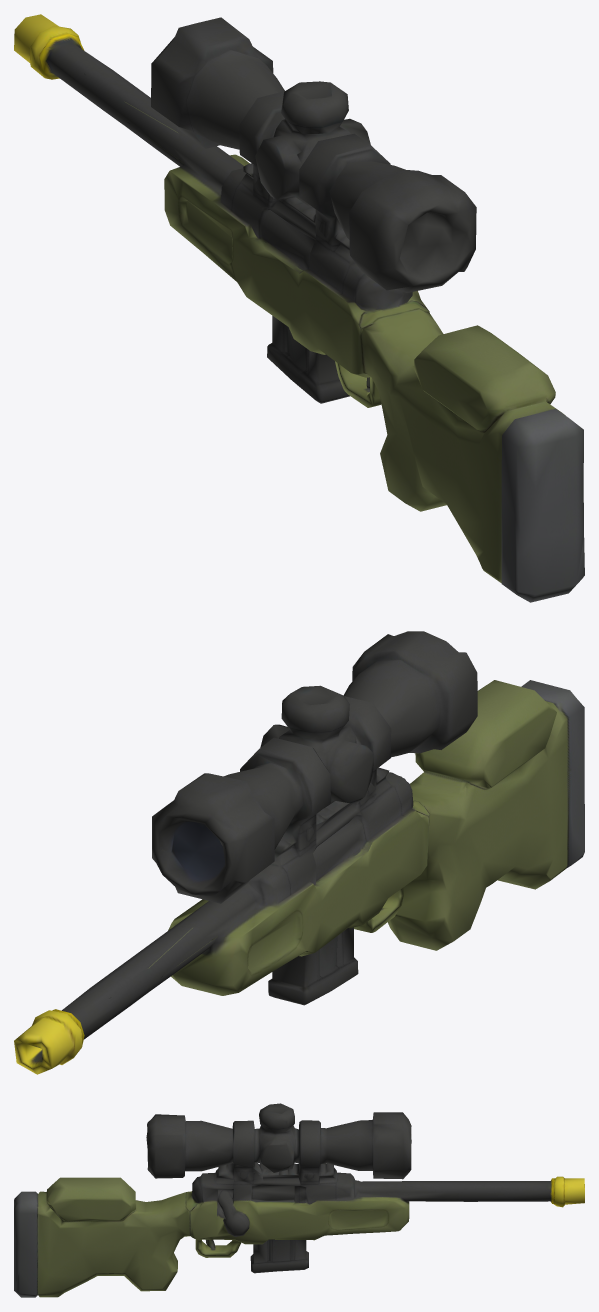
The model's file is widow_tripo_raw.glb.
3 views of the same model, one above another, from view 1: azimuth 30°, elevation 25°; view 2: azimuth 150°, elevation 25°; view 3: azimuth 270°, elevation 25° (orthographic). The views are drawn at different scales.
Visible parts, largest first — view 1: tripo_node_6320ab19-69d9-4278-ba74-fb9ae25fad5f; view 2: tripo_node_6320ab19-69d9-4278-ba74-fb9ae25fad5f; view 3: tripo_node_6320ab19-69d9-4278-ba74-fb9ae25fad5f.
Boxes of the visible parts, box(x1,y1,x2,y2) form: tripo_node_6320ab19-69d9-4278-ba74-fb9ae25fad5f: box(14, 14, 584, 602); tripo_node_6320ab19-69d9-4278-ba74-fb9ae25fad5f: box(14, 631, 584, 1074); tripo_node_6320ab19-69d9-4278-ba74-fb9ae25fad5f: box(14, 1103, 584, 1297).
Bounding box in the file's own units: 0.1195 × 0.3549 × 1.
Materials: 1 (1 with a texture image).
